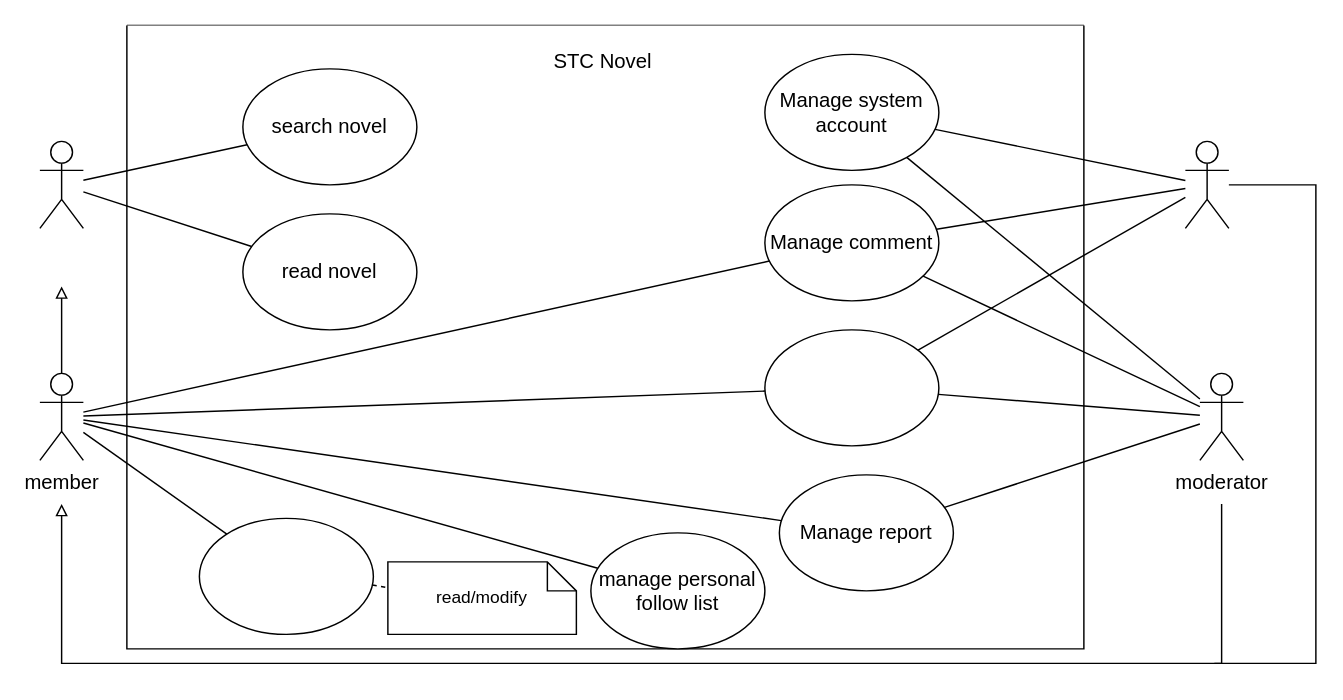
This 1343x700 diagram has some shape labels left out. Each missing label, with the centre of its shape:
admin: point 1206,184
guess: point 60,184
Manage novel: point 851,387
Manage personal information: point 285,575
